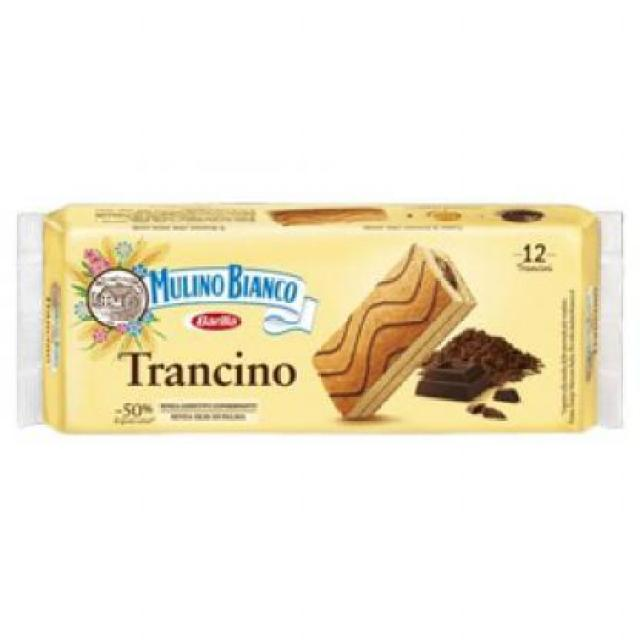Merendine: (8, 196, 630, 435)
